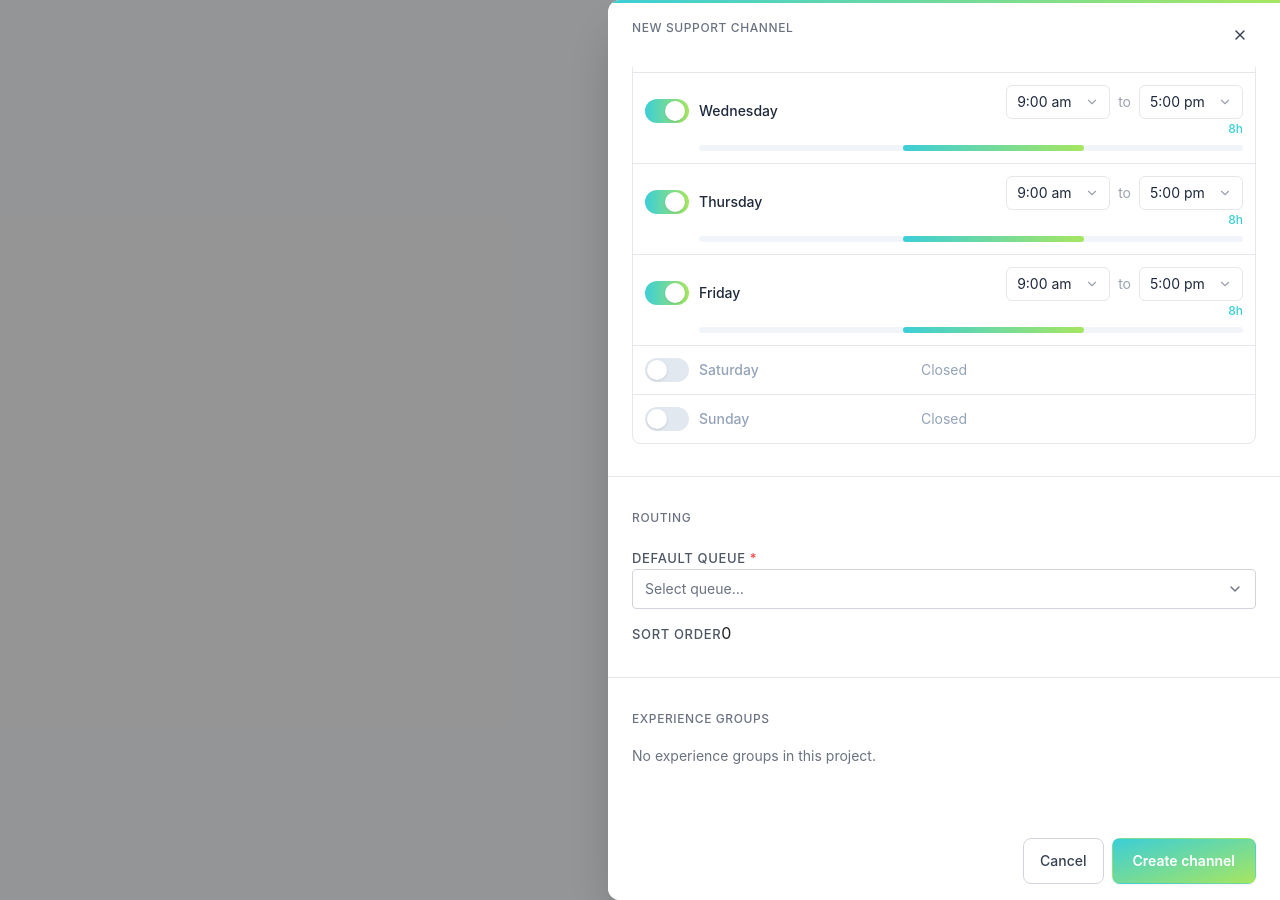
SupportChannelFormDrawer › shows queue dropdown for live chat
This screenshot has width=1280, height=900.
(page scrolled)
Click the button named "default queue" at (694, 588), box [632,569,1256,609]
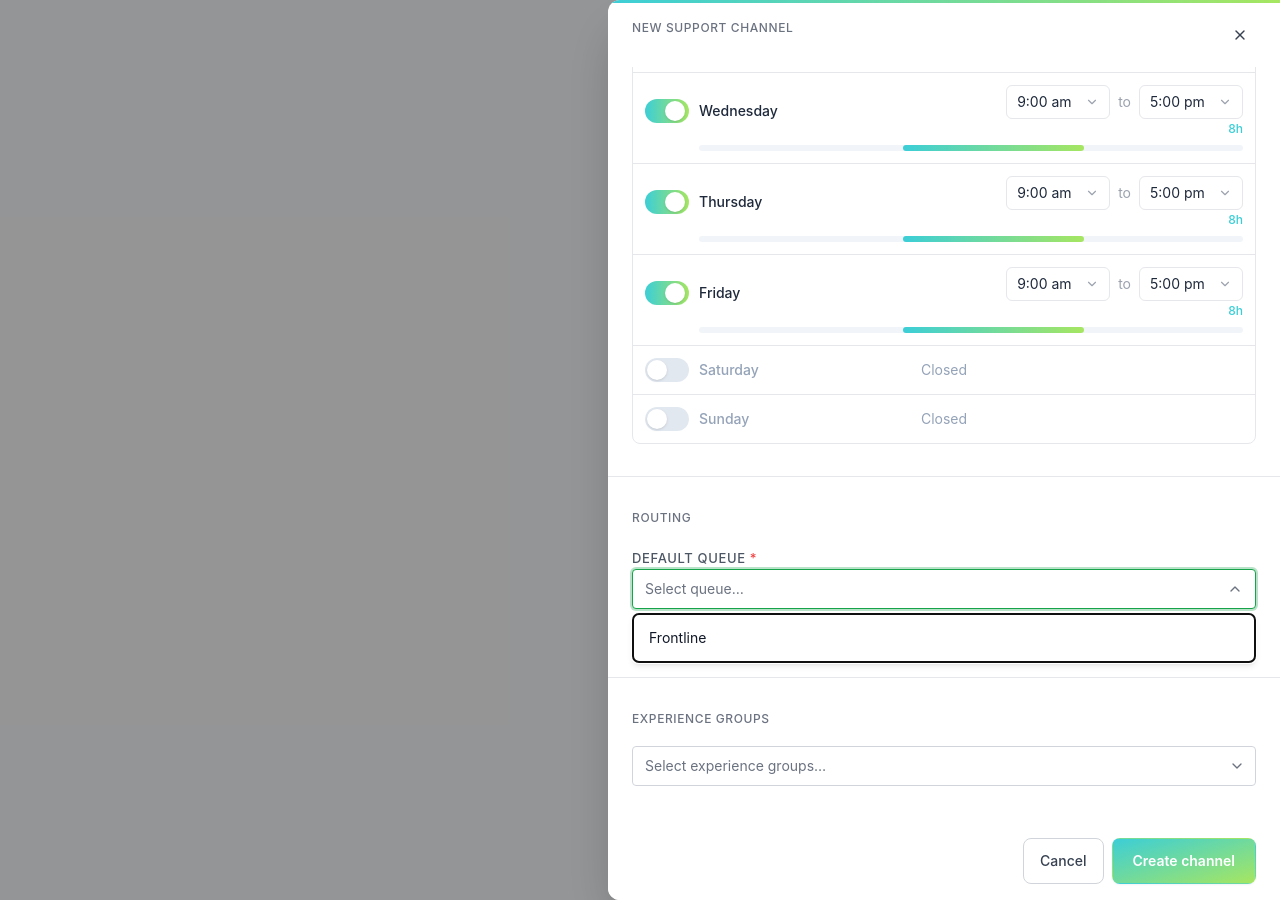
Expected: the option "Frontline" is shown, [633,618,1255,658]
